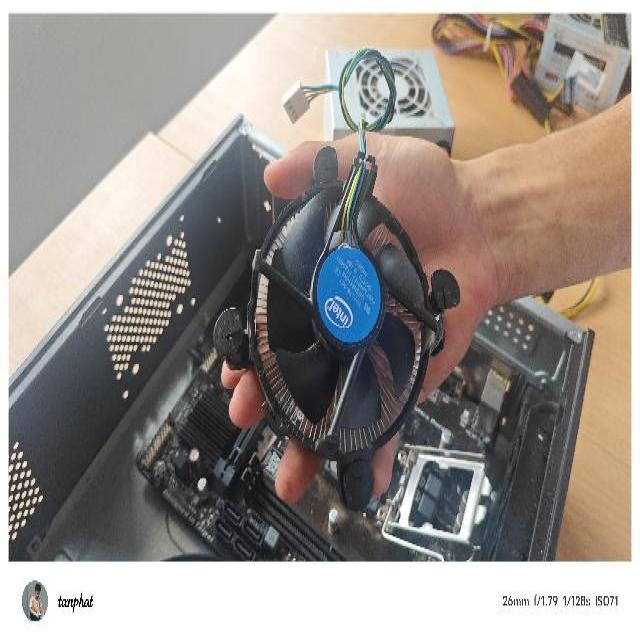CPU_Fan: (211, 123, 462, 515)
